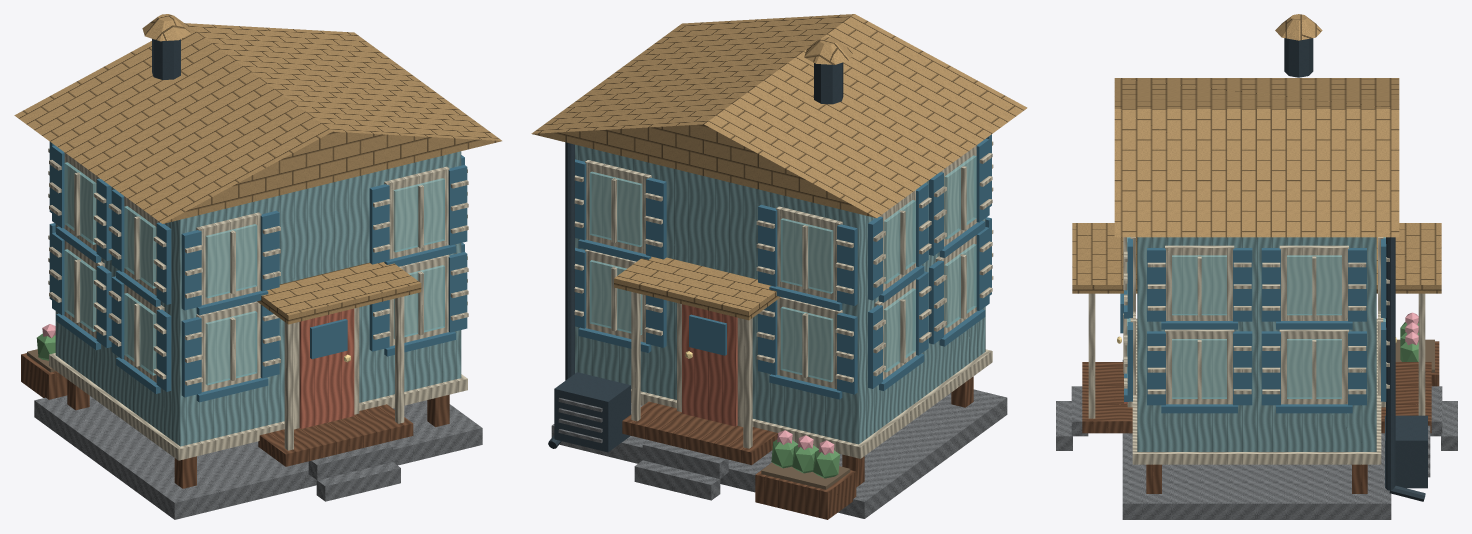
Rendered from house_beach_lv2.glb.
3 views of the same model, side by side, from view 1: azimuth 30°, elevation 25°; view 2: azimuth 150°, elevation 25°; view 3: azimuth 270°, elevation 25° (orthographic). The views are drawn at different scales.
Visible parts, largest first — view 1: gable_roof, walls, foundation, front_porch_canopy, front_door, front_deck, floor_trim, front_window_frame.002, front_window_frame.003, front_window_frame, front_window_glass.002, front_window_glass (+42 smaller); view 2: gable_roof, walls, foundation, back_porch_canopy, back_door, back_deck, back_ac_unit, back_window_frame.003, back_window_frame.002, back_window_frame, floor_trim, back_window_glass.002 (+44 smaller); view 3: gable_roof, walls, foundation, right_window_frame, right_window_frame.001, right_window_frame.002, right_window_frame.003, floor_trim, front_porch_canopy, back_porch_canopy, right_window_glass.002, right_window_glass.003 (+32 smaller).
Boxes of the visible parts, x1=… form: gable_roof: x1=14, y1=23, x2=501, y2=223; walls: x1=55, y1=151, x2=461, y2=446; foundation: x1=34, y1=395, x2=482, y2=519; front_porch_canopy: x1=257, y1=262, x2=421, y2=324; front_door: x1=299, y1=308, x2=354, y2=428; front_deck: x1=258, y1=404, x2=413, y2=466; floor_trim: x1=49, y1=353, x2=467, y2=460; front_window_frame.002: x1=196, y1=212, x2=261, y2=305; front_window_frame.003: x1=384, y1=166, x2=449, y2=259; front_window_frame: x1=196, y1=301, x2=260, y2=392; front_window_glass.002: x1=205, y1=224, x2=257, y2=298; front_window_glass: x1=205, y1=311, x2=257, y2=385; gable_roof: x1=531, y1=14, x2=1027, y2=218; walls: x1=575, y1=144, x2=985, y2=444; foundation: x1=551, y1=389, x2=1007, y2=518; back_porch_canopy: x1=614, y1=256, x2=780, y2=320; back_door: x1=682, y1=304, x2=737, y2=426; back_deck: x1=622, y1=401, x2=777, y2=465; back_ac_unit: x1=554, y1=372, x2=630, y2=452; back_window_frame.003: x1=585, y1=160, x2=651, y2=254; back_window_frame.002: x1=776, y1=206, x2=842, y2=300; back_window_frame: x1=777, y1=297, x2=842, y2=389; floor_trim: x1=631, y1=349, x2=992, y2=458; back_window_glass.002: x1=780, y1=218, x2=833, y2=293; gable_roof: x1=1114, y1=78, x2=1399, y2=237; walls: x1=1137, y1=237, x2=1376, y2=451; foundation: x1=1122, y1=360, x2=1391, y2=519; right_window_frame: x1=1165, y1=329, x2=1234, y2=404; right_window_frame.001: x1=1279, y1=329, x2=1348, y2=404; right_window_frame.002: x1=1165, y1=245, x2=1234, y2=320; right_window_frame.003: x1=1279, y1=245, x2=1348, y2=320; floor_trim: x1=1132, y1=318, x2=1381, y2=464; front_porch_canopy: x1=1072, y1=223, x2=1137, y2=293; back_porch_canopy: x1=1376, y1=223, x2=1441, y2=293; right_window_glass.002: x1=1172, y1=255, x2=1226, y2=315; right_window_glass.003: x1=1287, y1=255, x2=1341, y2=315.
Bounding box in the file's own units: 3.15 × 3.67 × 3.36.
Materials: 13 (7 with a texture image).
